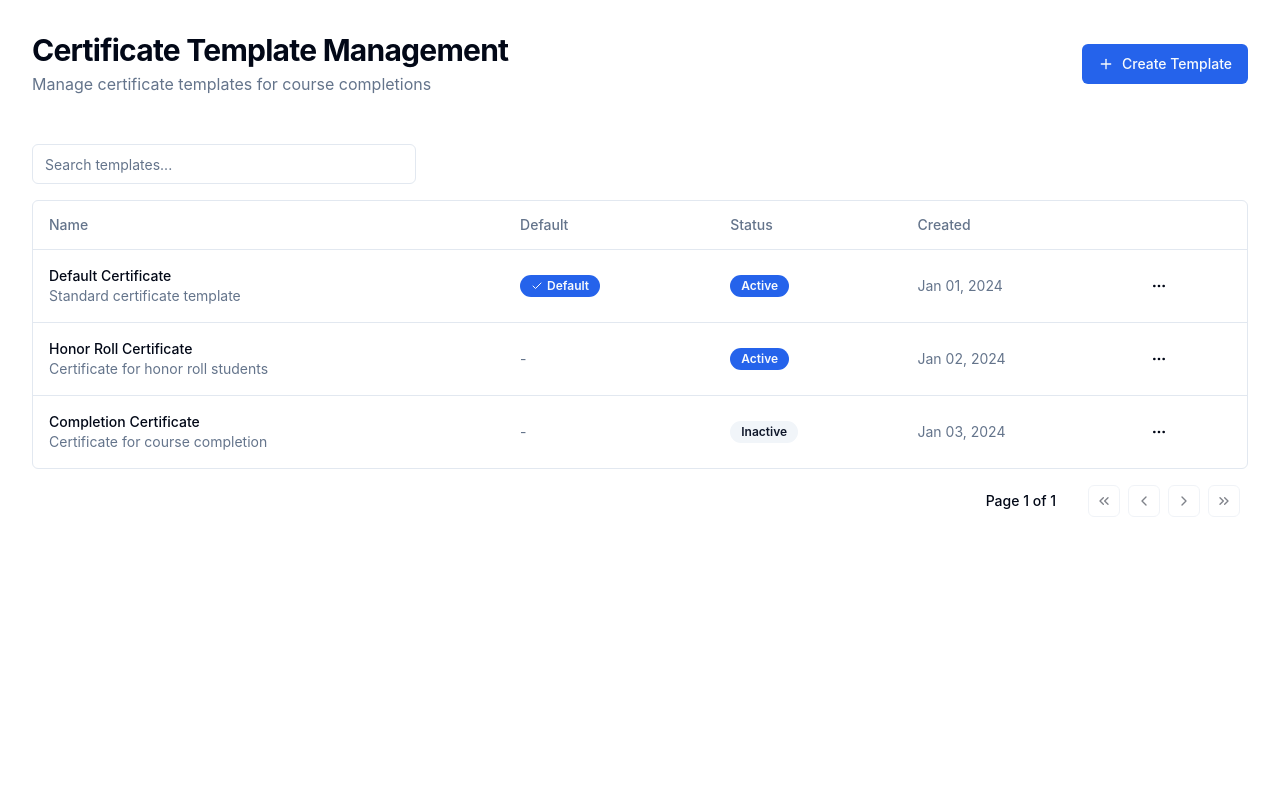
Test: CertificateTemplateManagementPage › Delete Template › should show confirmation dialog when Delete action is clicked
Expected: the text "Default Certificate" is shown, [49, 266, 171, 284]
Click the button named "open menu" in the row of "Default Certificate" at (1159, 286), box [1143, 270, 1175, 302]
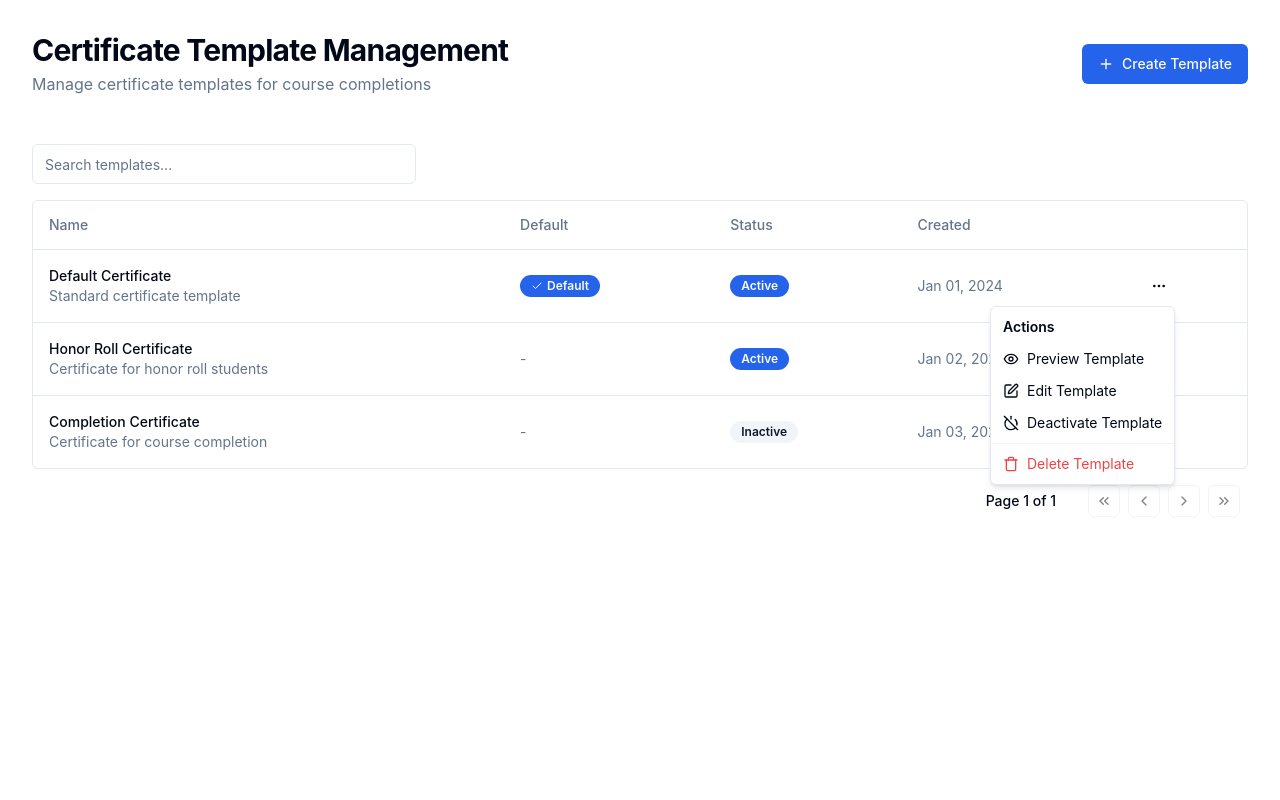
Result: the menu item "Delete Template" is shown
Click the menu item "Delete Template" at (1069, 464), box [1003, 455, 1134, 472]
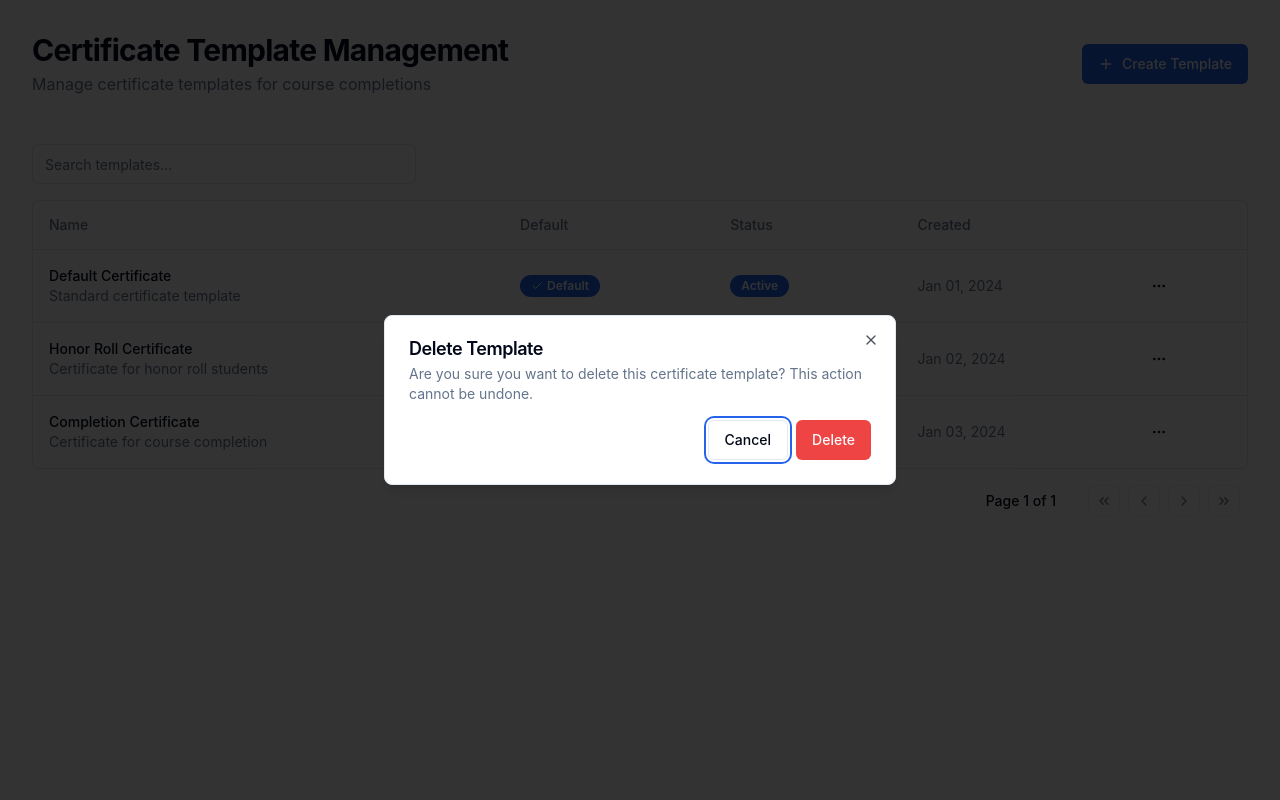
Result: the text "Are you sure" is shown at [409, 365, 862, 402]
